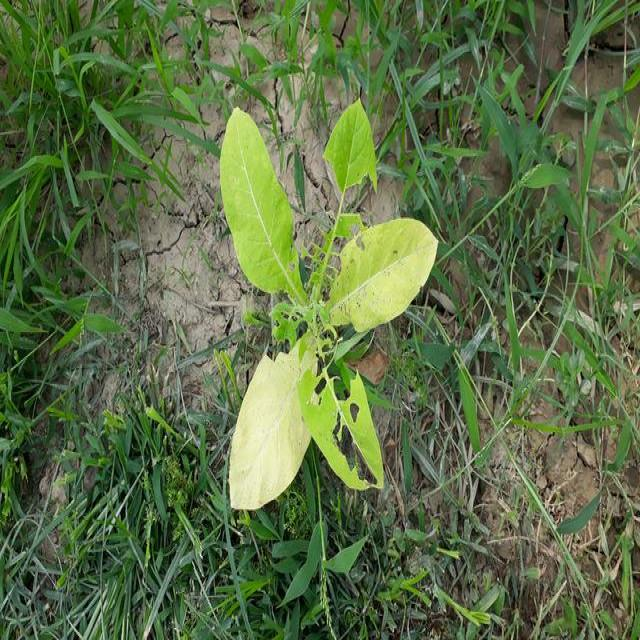crop: (210, 87, 434, 556)
